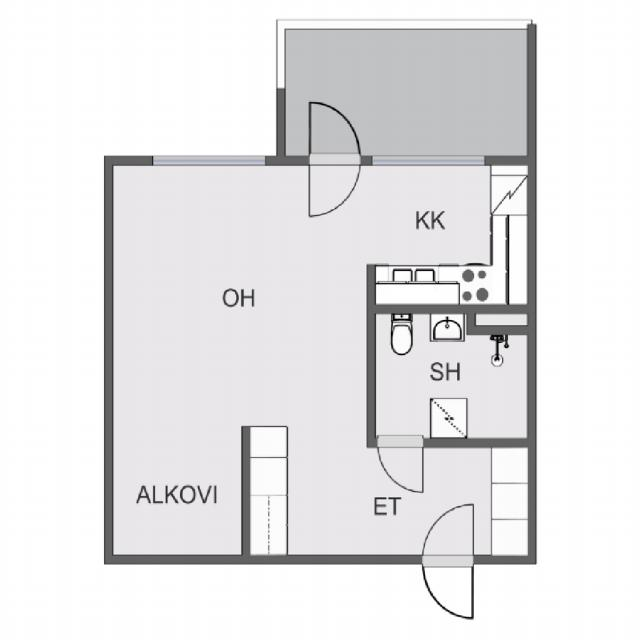door: (421, 553, 473, 620), (421, 496, 473, 563), (309, 100, 360, 165), (309, 155, 360, 219), (377, 437, 423, 496)
